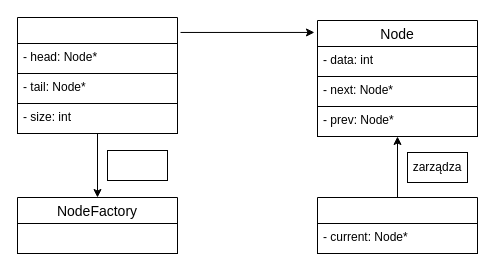
This 495x274 diagram has some shape labels left out. The box of each missing label's shape, as (x1, y1, x2, y2) in pixels:
+ createNode(): (16, 222, 178, 254)
Iterator: (316, 196, 478, 254)
LinkedList: (16, 16, 178, 134)
tworzy: (106, 150, 168, 180)
